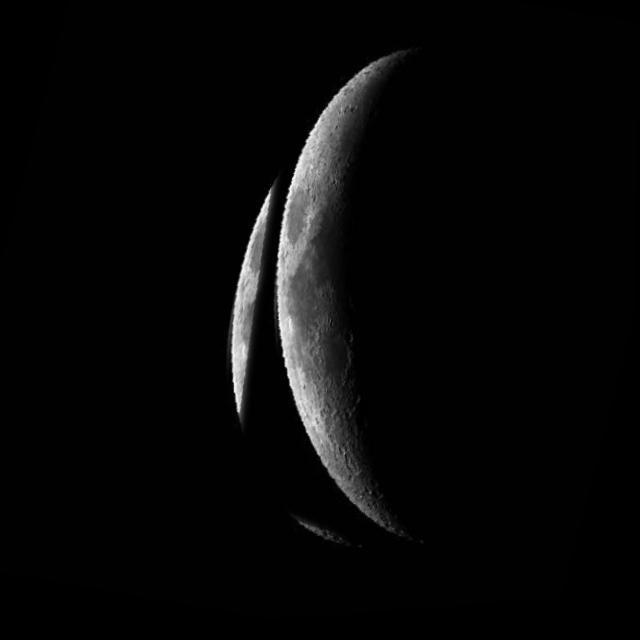moon: (158, 0, 618, 611)
